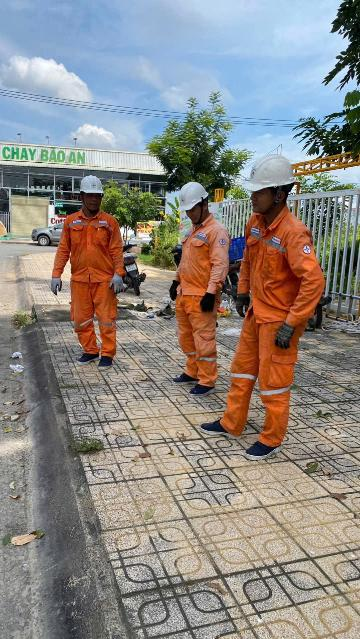gloves: (104, 271, 126, 298), (193, 294, 219, 316), (277, 322, 296, 351), (236, 290, 252, 321), (166, 280, 183, 306), (48, 278, 64, 296)
helmet: (243, 152, 296, 196), (176, 181, 208, 214), (79, 176, 105, 198)
shoes: (247, 436, 285, 460), (193, 420, 231, 435), (73, 347, 94, 372), (188, 379, 214, 399), (93, 351, 115, 374), (171, 373, 194, 385)
